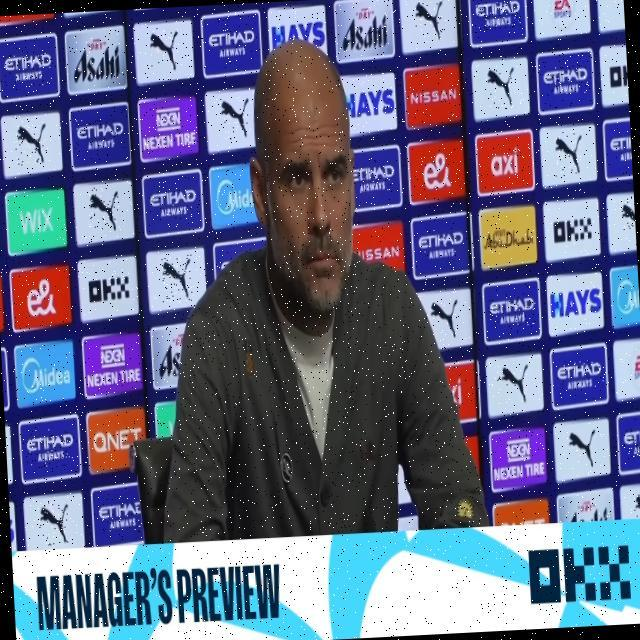Etihad Airways: (26, 429, 75, 469), (4, 52, 55, 87), (489, 293, 537, 328), (76, 119, 125, 153), (150, 187, 197, 221), (96, 499, 144, 532), (557, 359, 605, 392), (418, 228, 465, 261), (542, 65, 589, 97), (209, 29, 255, 60), (353, 163, 396, 195), (475, 0, 520, 30), (610, 130, 633, 165), (623, 427, 640, 458)
Puma: (497, 360, 531, 408), (15, 120, 49, 167), (161, 255, 194, 303), (38, 499, 71, 546), (88, 187, 121, 232), (486, 63, 517, 110), (149, 26, 180, 71), (429, 298, 462, 339), (554, 132, 584, 177), (567, 427, 599, 469), (220, 97, 251, 140), (414, 0, 445, 42), (620, 197, 636, 230), (632, 492, 640, 519)
